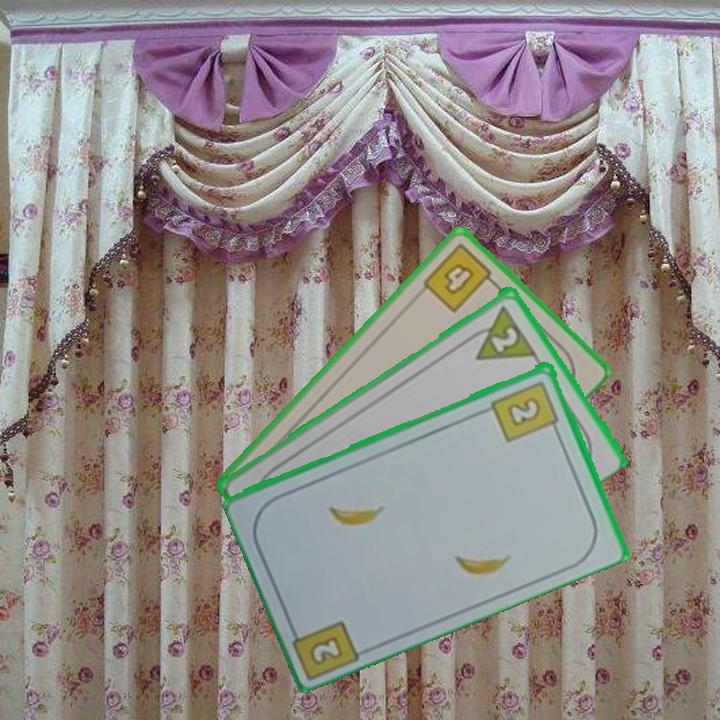2b: (285, 616, 364, 680), (488, 377, 562, 445)
2p: (461, 300, 539, 364)
4b: (419, 239, 501, 315)
